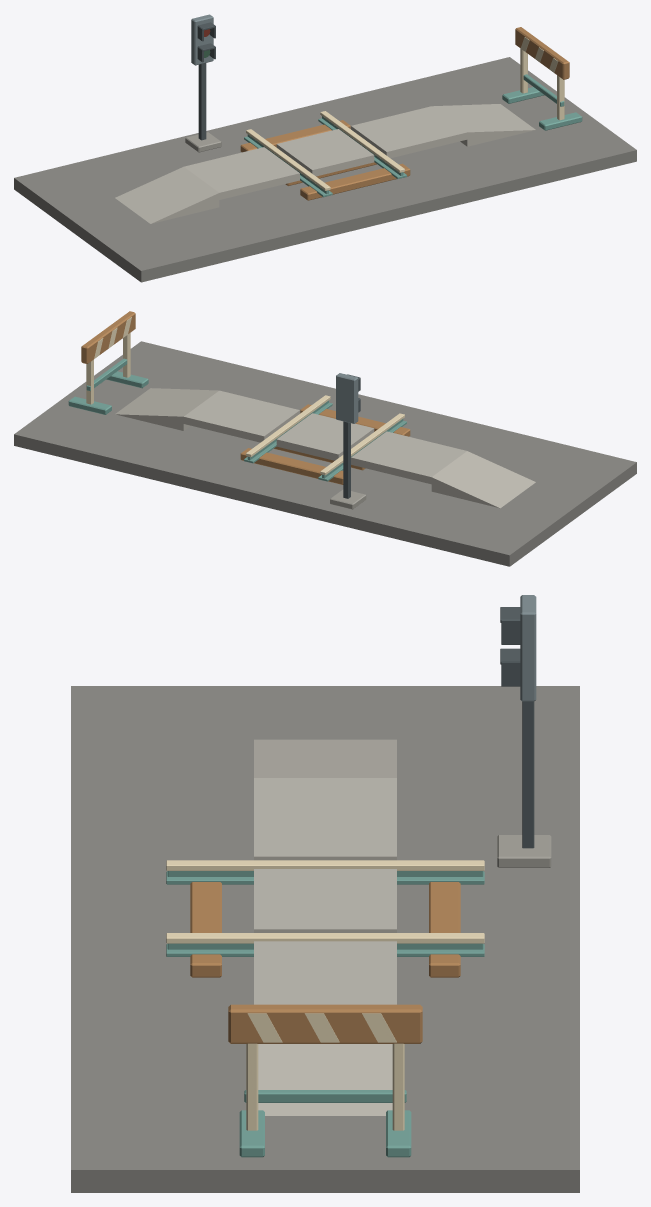
3 renders of one model, top to bottom at view 1: azimuth 30°, elevation 25°; view 2: azimuth 150°, elevation 25°; view 3: azimuth 270°, elevation 25°, orthographic. The views are drawn at different scales.
Parts seen in each view (by area): view 1: SceneOnly__GroundedCrossingPad, SceneOnly__WestApproachAndOuterDeck, SceneOnly__EastApproachAndOuterDeck, FullTrack__railway-straight-track-01, ClosedRoadBarrier__transport-road-barrier-01, SceneOnly__CentralSleeperSupportedDeck, Signal__Fixed signal mast, Signal__Signal head back shell, Signal__Grounded signal plinth; view 2: SceneOnly__GroundedCrossingPad, SceneOnly__WestApproachAndOuterDeck, SceneOnly__EastApproachAndOuterDeck, FullTrack__railway-straight-track-01, ClosedRoadBarrier__transport-road-barrier-01, SceneOnly__CentralSleeperSupportedDeck, Signal__Signal head back shell, Signal__Fixed signal mast, Signal__Grounded signal plinth; view 3: SceneOnly__GroundedCrossingPad, SceneOnly__WestApproachAndOuterDeck, SceneOnly__EastApproachAndOuterDeck, FullTrack__railway-straight-track-01, ClosedRoadBarrier__transport-road-barrier-01, SceneOnly__CentralSleeperSupportedDeck, Signal__Fixed signal mast, Signal__Signal head back shell, Signal__Grounded signal plinth.
Part boxes in pixels (<box>): SceneOnly__GroundedCrossingPad: <box>14,57,636,282</box>; SceneOnly__WestApproachAndOuterDeck: <box>115,147,299,223</box>; SceneOnly__EastApproachAndOuterDeck: <box>351,104,535,158</box>; FullTrack__railway-straight-track-01: <box>240,111,410,200</box>; ClosedRoadBarrier__transport-road-barrier-01: <box>502,27,582,130</box>; SceneOnly__CentralSleeperSupportedDeck: <box>276,129,374,176</box>; Signal__Fixed signal mast: <box>198,63,206,140</box>; Signal__Signal head back shell: <box>191,14,213,65</box>; Signal__Grounded signal plinth: <box>185,132,221,152</box>; SceneOnly__GroundedCrossingPad: <box>14,341,636,566</box>; SceneOnly__WestApproachAndOuterDeck: <box>351,431,535,508</box>; SceneOnly__EastApproachAndOuterDeck: <box>115,388,299,442</box>; FullTrack__railway-straight-track-01: <box>240,395,410,484</box>; ClosedRoadBarrier__transport-road-barrier-01: <box>68,311,148,414</box>; SceneOnly__CentralSleeperSupportedDeck: <box>276,413,374,460</box>; Signal__Signal head back shell: <box>336,373,358,423</box>; Signal__Fixed signal mast: <box>343,421,350,498</box>; Signal__Grounded signal plinth: <box>330,489,366,509</box>; SceneOnly__GroundedCrossingPad: <box>71,686,579,1192</box>; SceneOnly__WestApproachAndOuterDeck: <box>254,739,396,860</box>; SceneOnly__EastApproachAndOuterDeck: <box>254,941,396,1115</box>; FullTrack__railway-straight-track-01: <box>166,860,484,977</box>; ClosedRoadBarrier__transport-road-barrier-01: <box>228,1004,422,1157</box>; SceneOnly__CentralSleeperSupportedDeck: <box>254,869,396,932</box>; Signal__Fixed signal mast: <box>522,701,534,848</box>; Signal__Signal head back shell: <box>520,595,536,701</box>; Signal__Grounded signal plinth: <box>497,835,551,867</box>.
Size of the model in its own units: 7.2 by 1.92 by 3.2.
